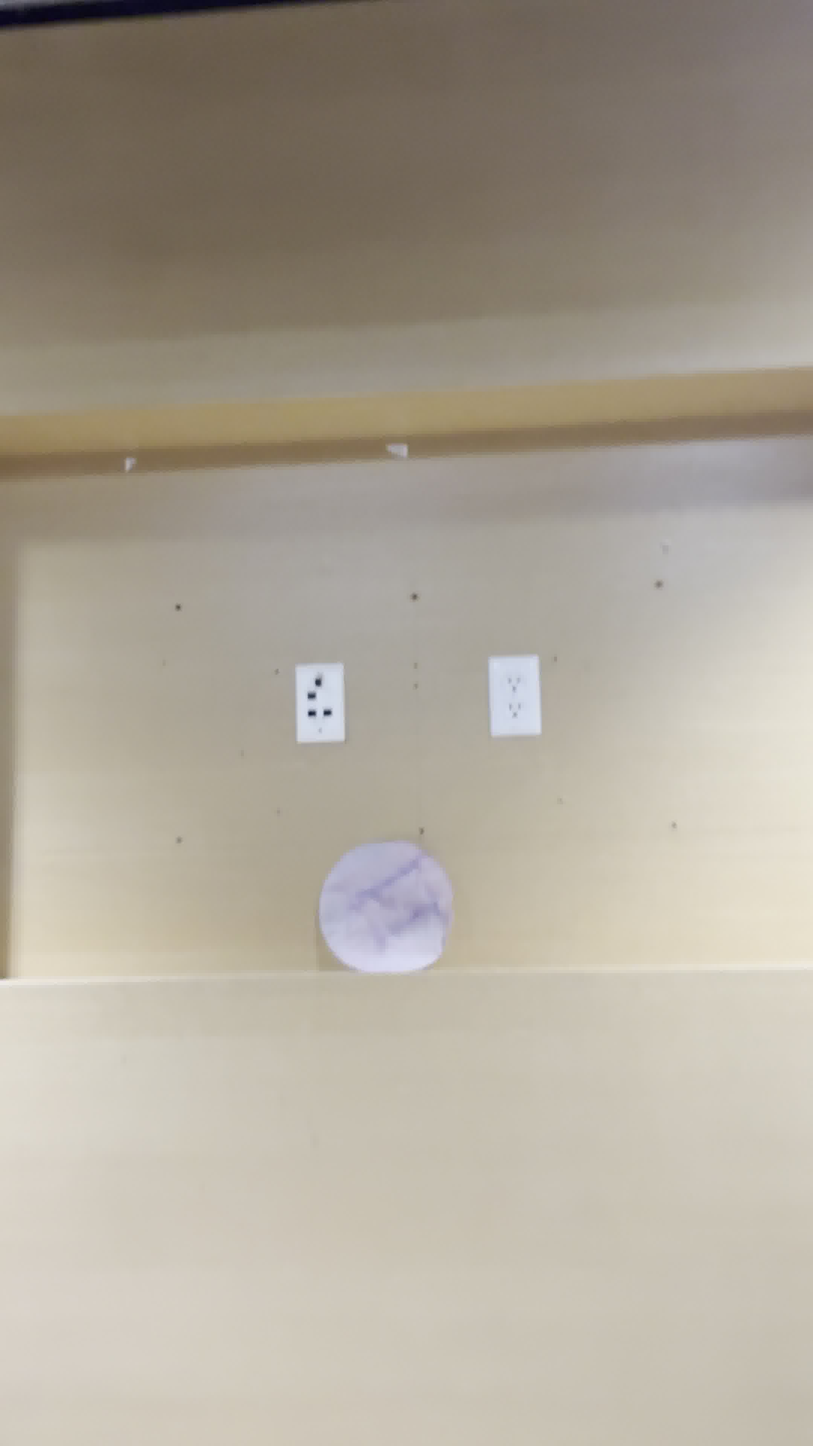Target: (313, 838, 456, 975)
